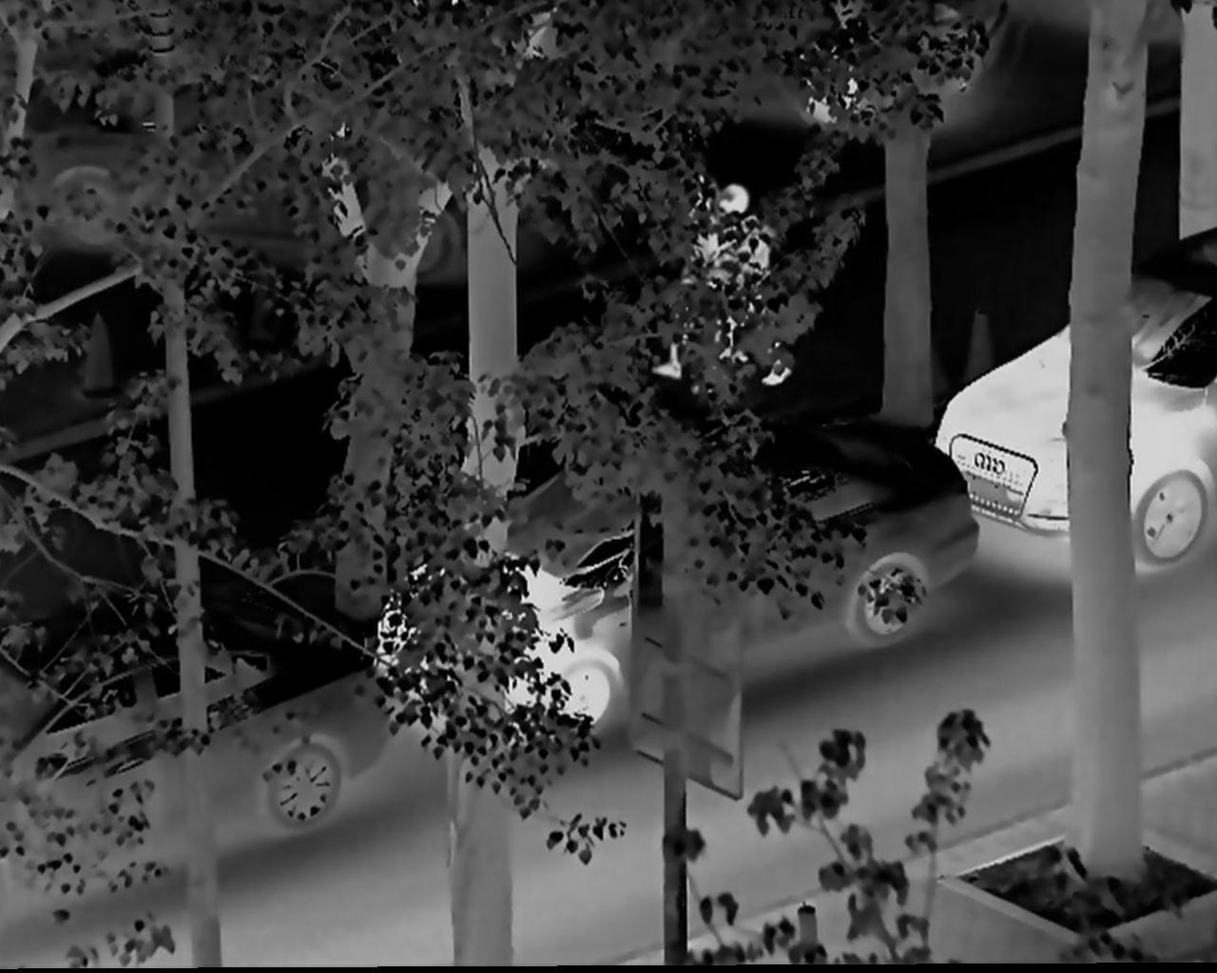person: (705, 177, 785, 389)
